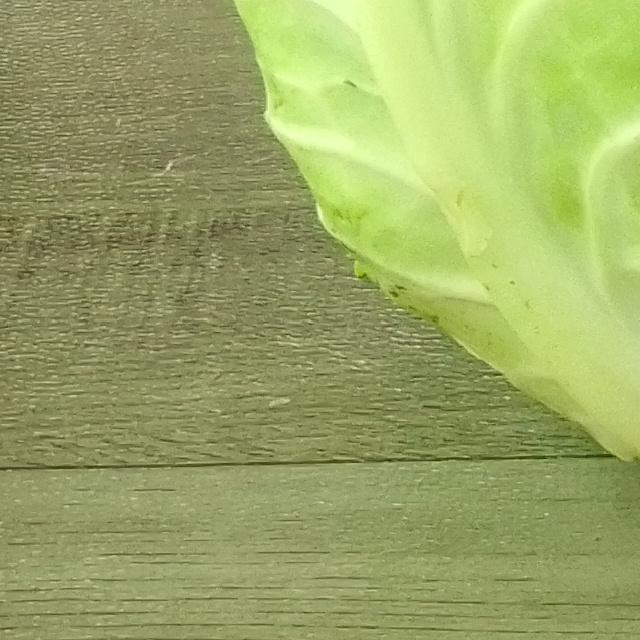cabbage: (204, 0, 640, 570)
